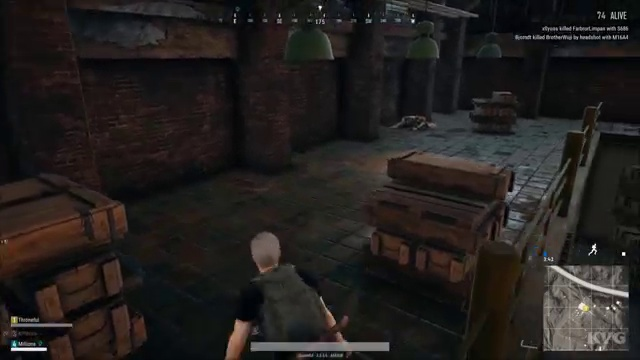Player: (213, 217, 355, 329)
